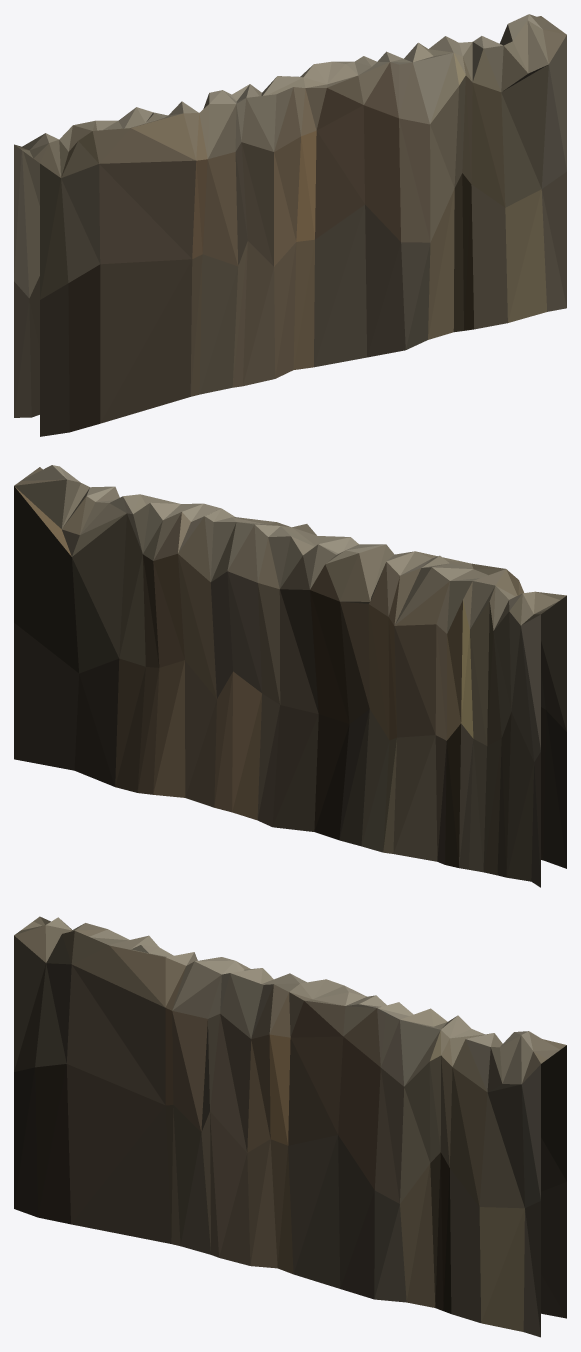
Rendered from Wall_CutLog-4m.fbx.
3 views of the same model, one above another, from view 1: azimuth 30°, elevation 25°; view 2: azimuth 150°, elevation 25°; view 3: azimuth 330°, elevation 25° (orthographic).
Visible parts, largest first — view 1: Wall_CutLog-4m; view 2: Wall_CutLog-4m; view 3: Wall_CutLog-4m.
Boxes of the visible parts, left/top/right/bottom form: Wall_CutLog-4m: left=14, top=14, right=566, bottom=436; Wall_CutLog-4m: left=14, top=465, right=566, bottom=887; Wall_CutLog-4m: left=14, top=916, right=566, bottom=1337.
Bounding box in the file's own units: 400 × 211 × 49.91.
